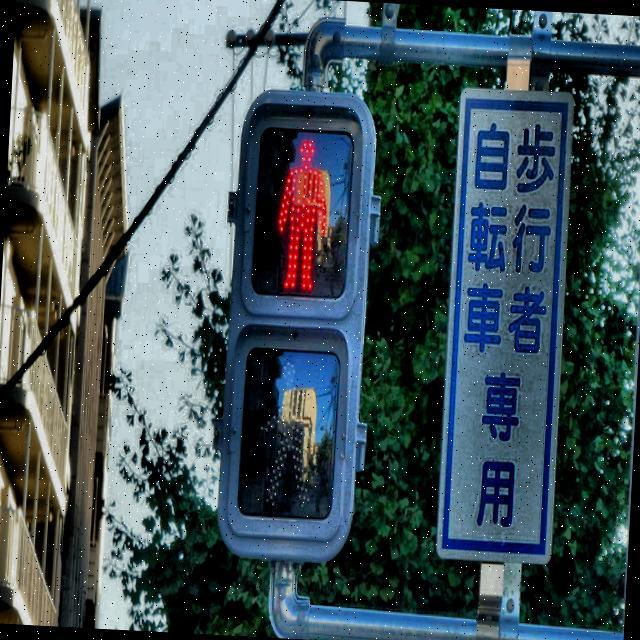red_light: (270, 134, 334, 300)
